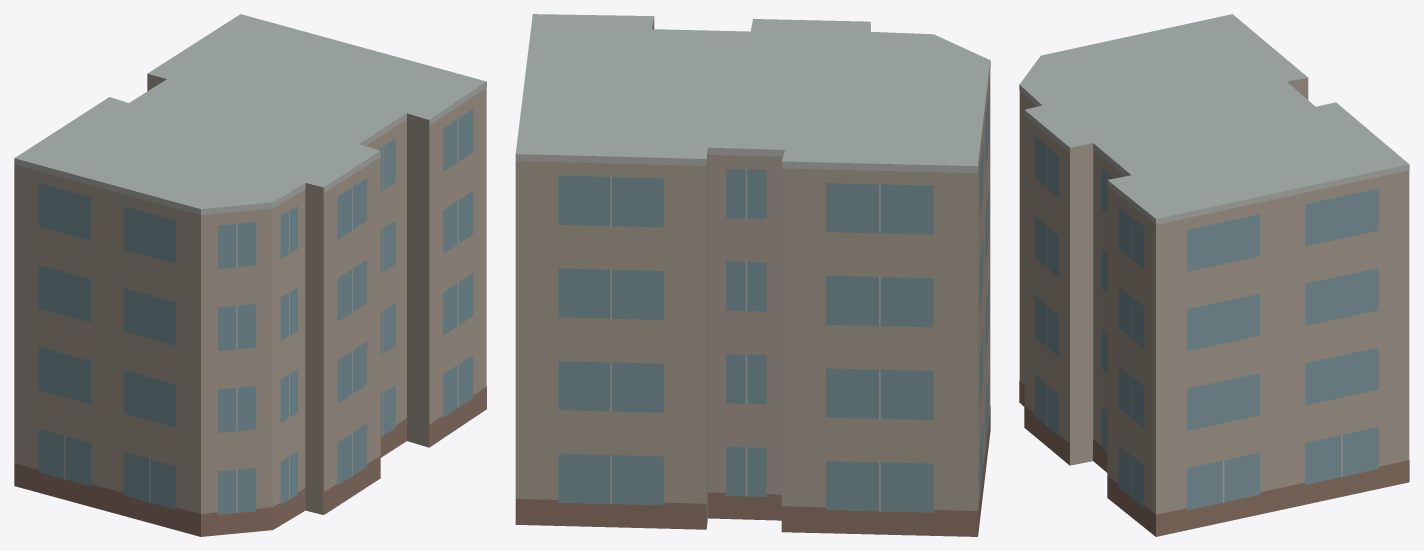
File: survey-upis-32809483.glb
3 views of the same model, side by side, from view 1: azimuth 30°, elevation 25°; view 2: azimuth 150°, elevation 25°; view 3: azimuth 270°, elevation 25° (orthographic). The views are drawn at different scales.
Visible parts, largest first — view 1: survey-upis-32809483.tmp; view 2: survey-upis-32809483.tmp; view 3: survey-upis-32809483.tmp.
Part boxes in pixels (<box>): survey-upis-32809483.tmp: <box>14,14,486,536</box>; survey-upis-32809483.tmp: <box>515,14,990,536</box>; survey-upis-32809483.tmp: <box>1019,14,1409,536</box>.
Bounding box in the file's own units: 17.85 × 12.9 × 14.35.
